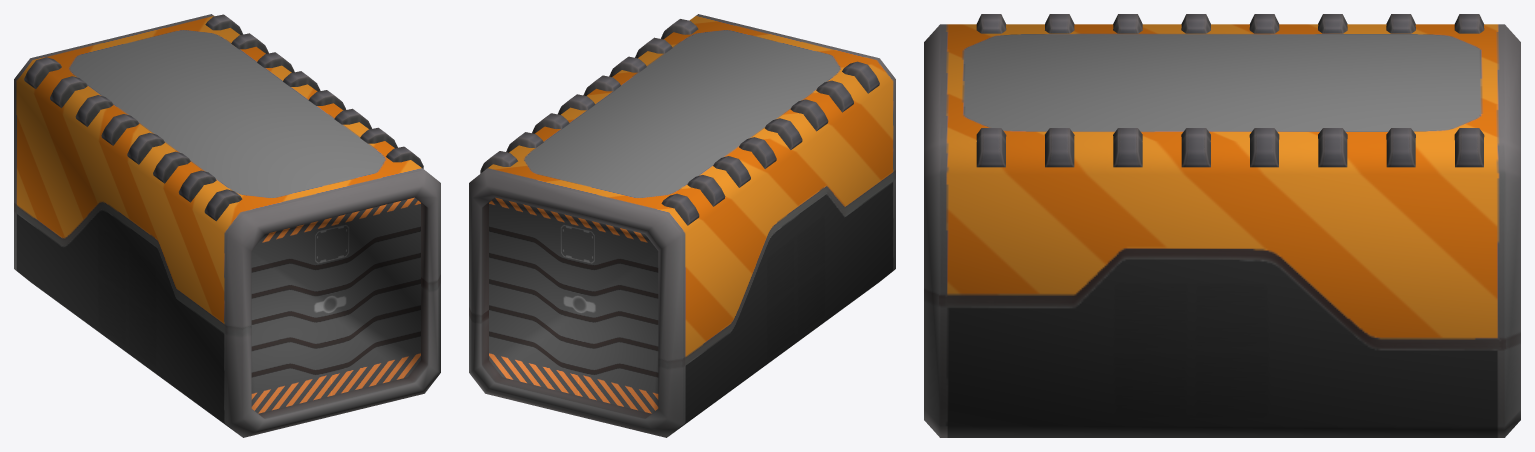
The model's file is ContainerC_A.fbx.
3 renders of one model, left to right at view 1: azimuth 30°, elevation 25°; view 2: azimuth 150°, elevation 25°; view 3: azimuth 270°, elevation 25°, orthographic. The views are drawn at different scales.
Parts seen in each view (by area): view 1: ContainerC_A; view 2: ContainerC_A; view 3: ContainerC_A.
Part boxes in pixels (box(x1,y1,x2,y2)): ContainerC_A: box(14, 14, 440, 437); ContainerC_A: box(469, 14, 895, 437); ContainerC_A: box(924, 14, 1520, 437).
Size of the model in its own units: 2.3 by 2.37 by 4.2.
